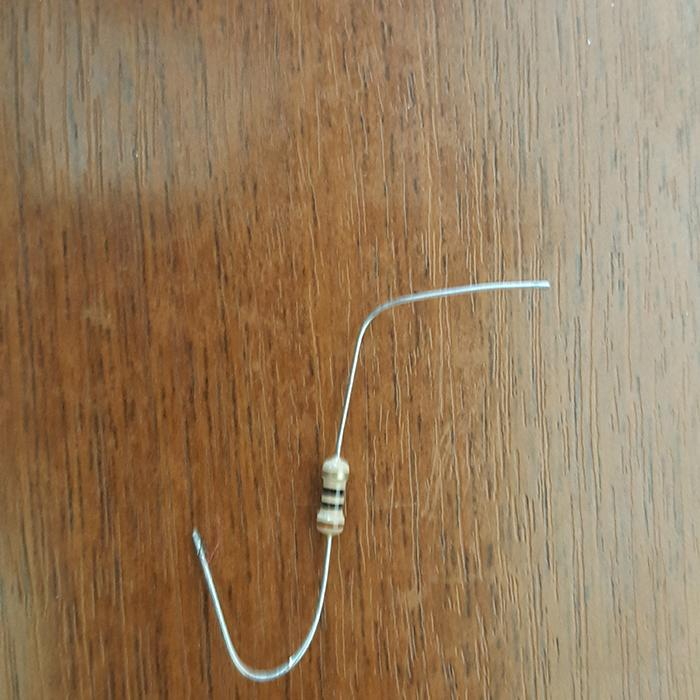resistor: (316, 454, 350, 538)
